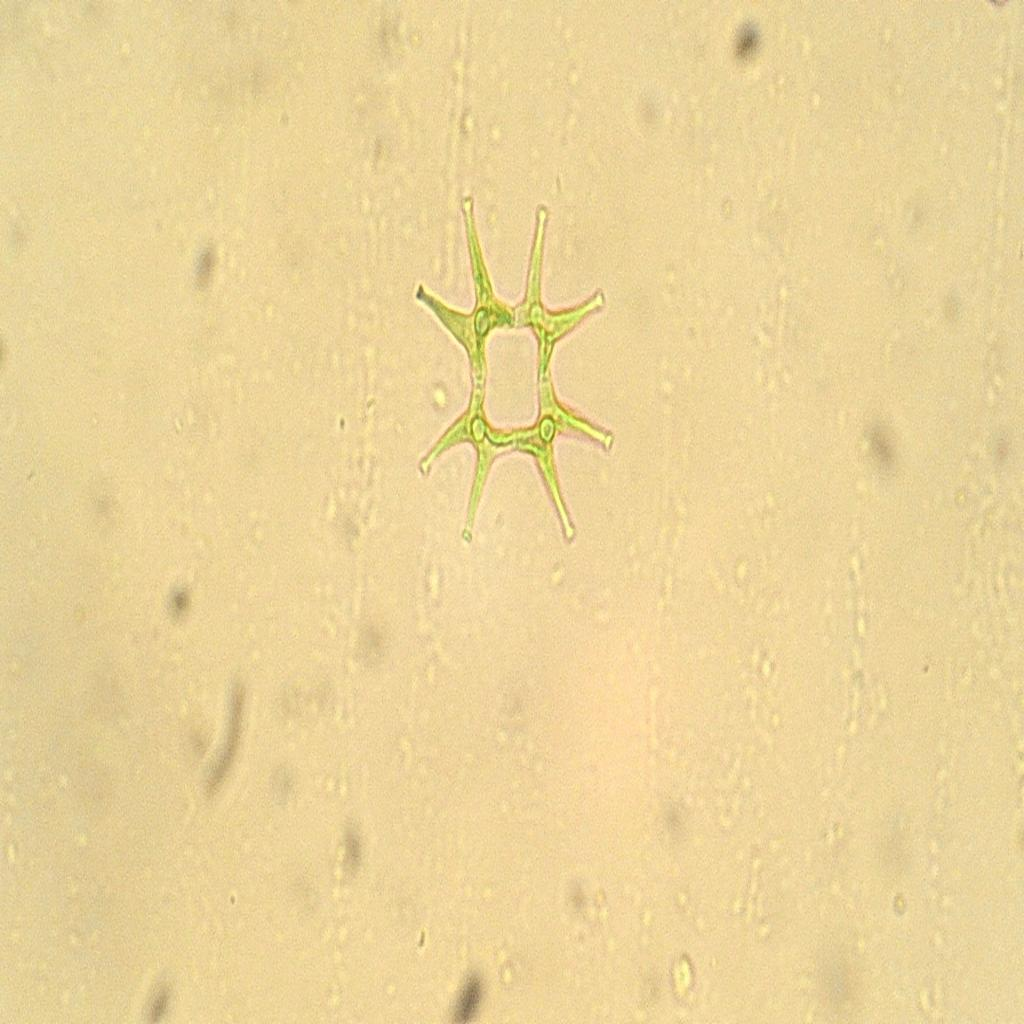Pediastrum_CO: (394, 172, 633, 562)
